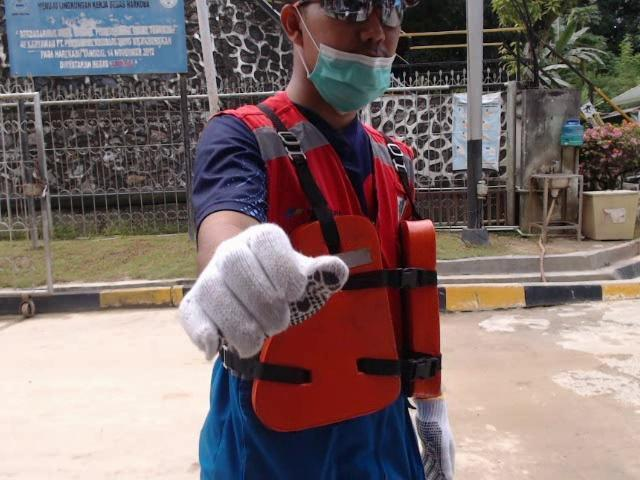0: (166, 221, 353, 365)
Glass: (176, 96, 429, 432)
